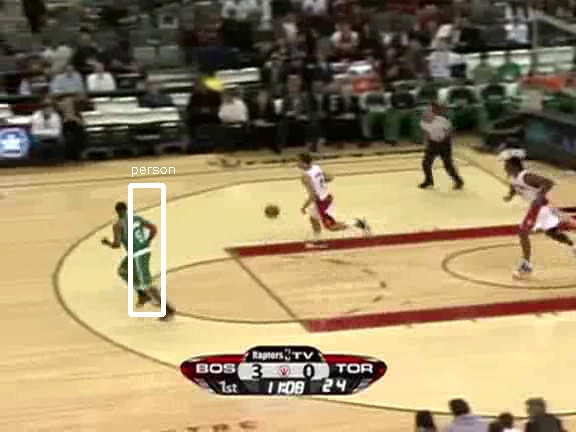person: (122, 208, 156, 289), (121, 208, 155, 289), (123, 208, 157, 289), (122, 207, 156, 288), (122, 209, 156, 290)
target_negative: (267, 41, 495, 400), (231, 13, 370, 334), (110, 94, 388, 233), (232, 327, 534, 432), (543, 180, 551, 270)
